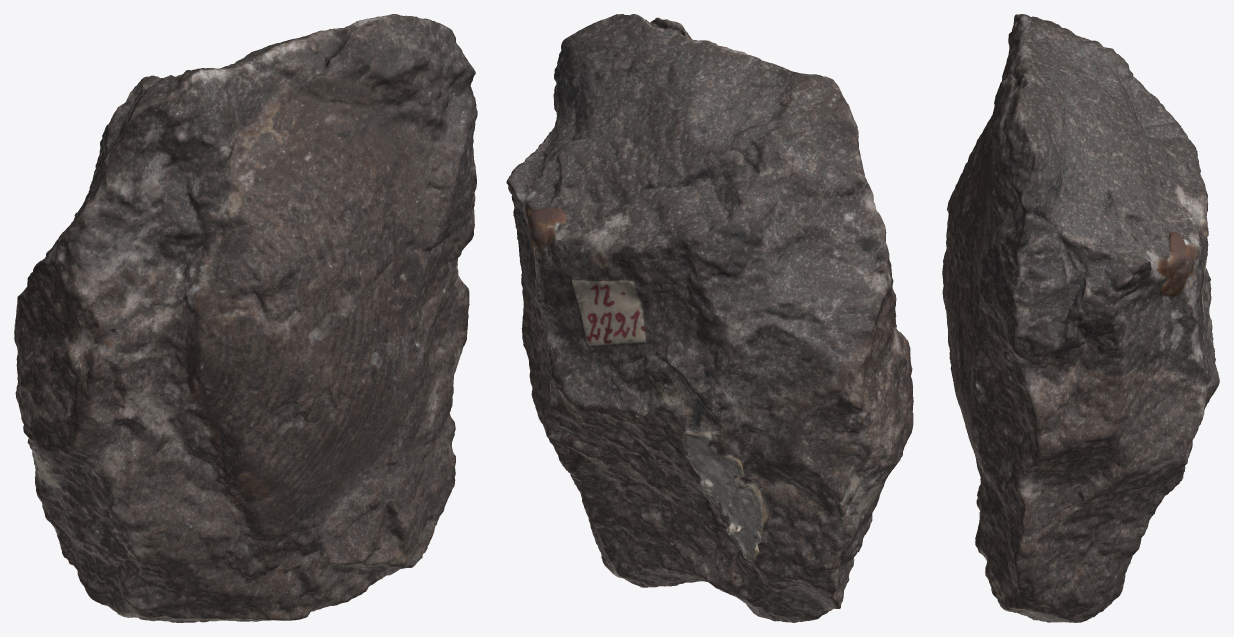
File: EWS0016110.glb
The picture shows the model from 3 angles, left to right: view 1: azimuth 30°, elevation 25°; view 2: azimuth 150°, elevation 25°; view 3: azimuth 270°, elevation 25°; orthographic projection. The views are drawn at different scales.
Parts seen in each view (by area): view 1: EWS0016110.001; view 2: EWS0016110.001; view 3: EWS0016110.001.
Boxes of the visible parts, box(x1,y1,x2,y2) form: EWS0016110.001: box(14, 14, 477, 622); EWS0016110.001: box(506, 14, 913, 622); EWS0016110.001: box(942, 14, 1219, 622).
Size of the model in its own units: 0.037 by 0.051 by 0.0233.
Materials: 1 (1 with a texture image).
